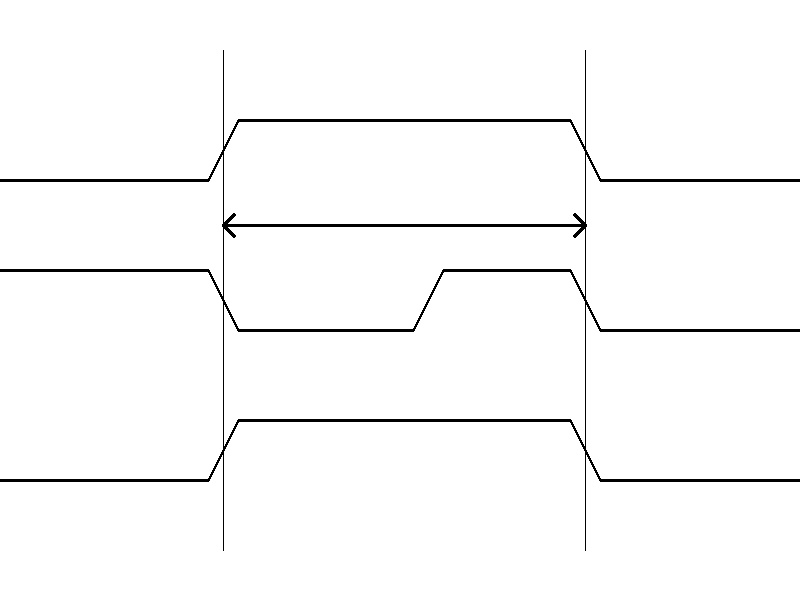double_arrow: (223, 210, 585, 240)
